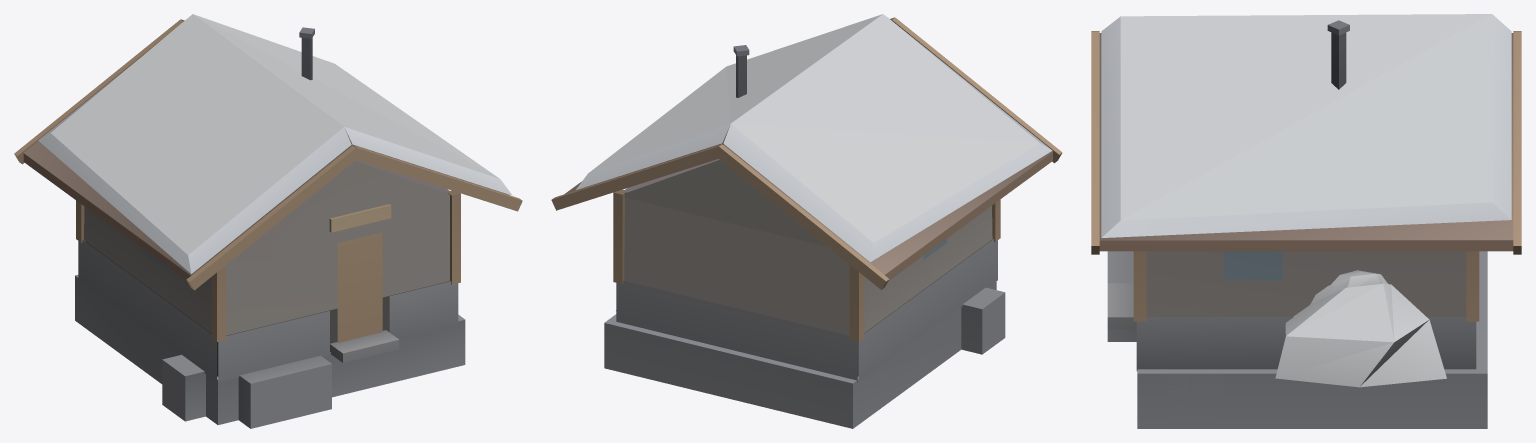
The model's file is refuge.lod2.glb.
3 renders of one model, left to right at view 1: azimuth 30°, elevation 25°; view 2: azimuth 150°, elevation 25°; view 3: azimuth 270°, elevation 25°, orthographic. The views are drawn at different scales.
Bounding box in the file's own units: 8.02 × 6.73 × 7.32.
